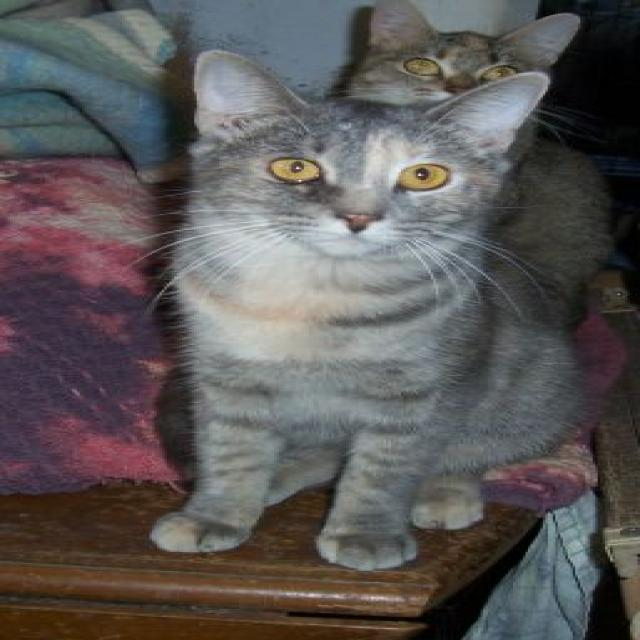cats: (153, 1, 614, 568)
